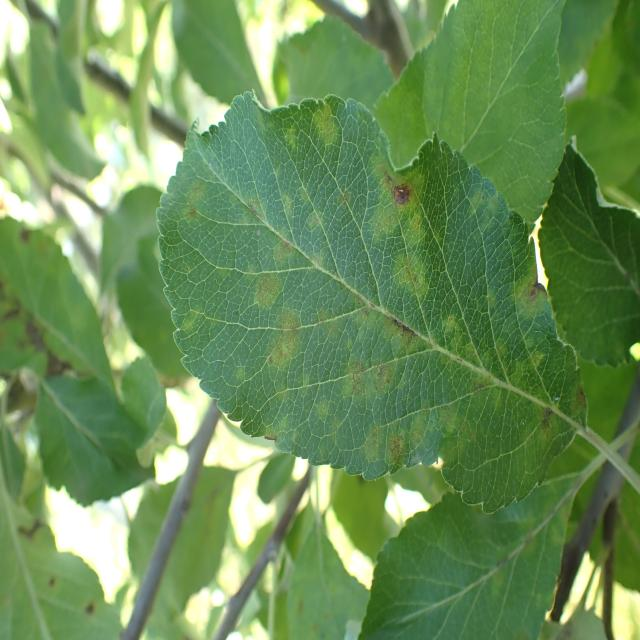scab: (166, 104, 580, 488), (385, 501, 570, 640)
